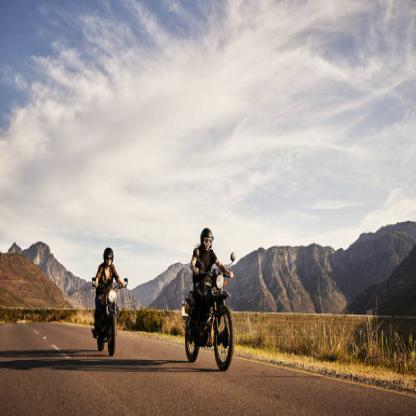Motorcycle: (179, 254, 245, 377), (82, 274, 130, 356)
